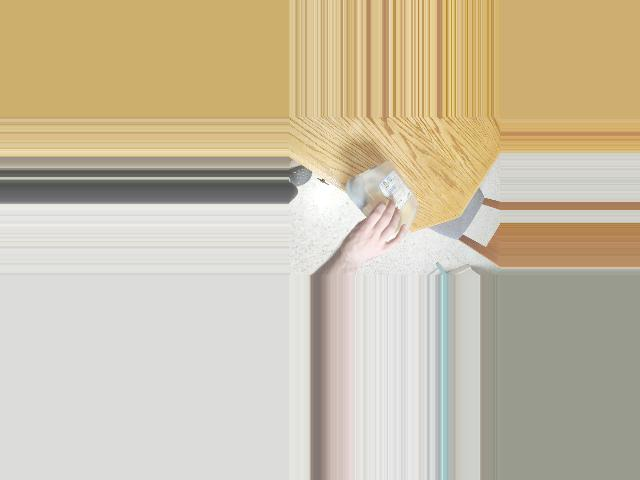cheese: (347, 158, 420, 248)
